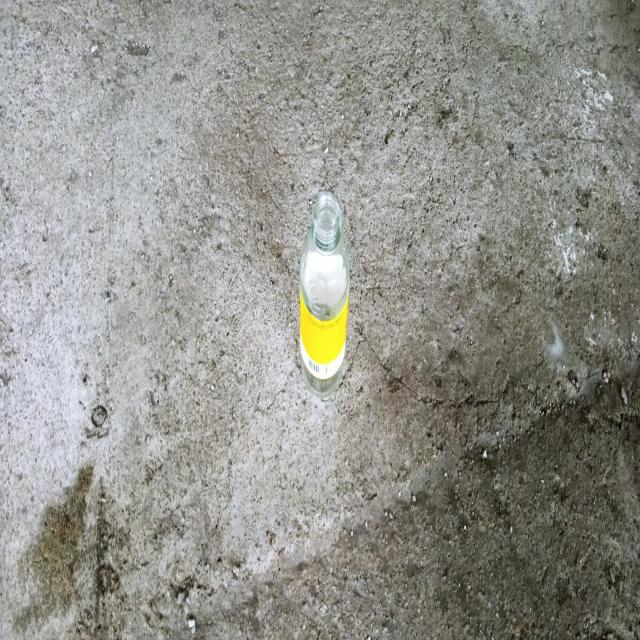glass: (300, 190, 350, 397)
